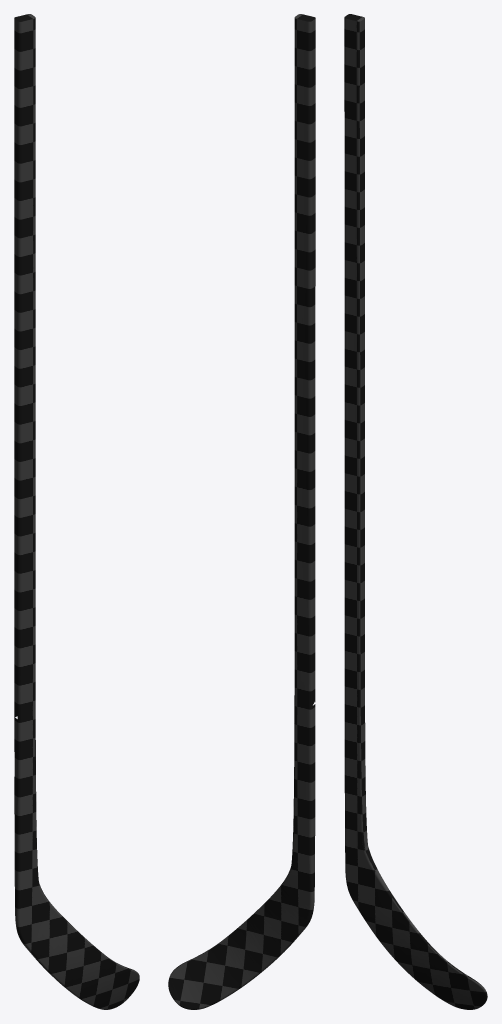
The model's file is P29M-ST-LIE4_0.glb.
The picture shows the model from 3 angles, left to right: view 1: azimuth 30°, elevation 25°; view 2: azimuth 150°, elevation 25°; view 3: azimuth 330°, elevation 25°; orthographic projection. The views are drawn at different scales.
Parts seen in each view (by area): view 1: geometry_0; view 2: geometry_0; view 3: geometry_0.
Part boxes in pixels (x1=…): geometry_0: x1=14, y1=14, x2=139, y2=1009; geometry_0: x1=168, y1=14, x2=315, y2=1009; geometry_0: x1=344, y1=14, x2=487, y2=1009.
Size of the model in its own units: 228 by 1650 by 55.07.
1 material, 1 textured.
